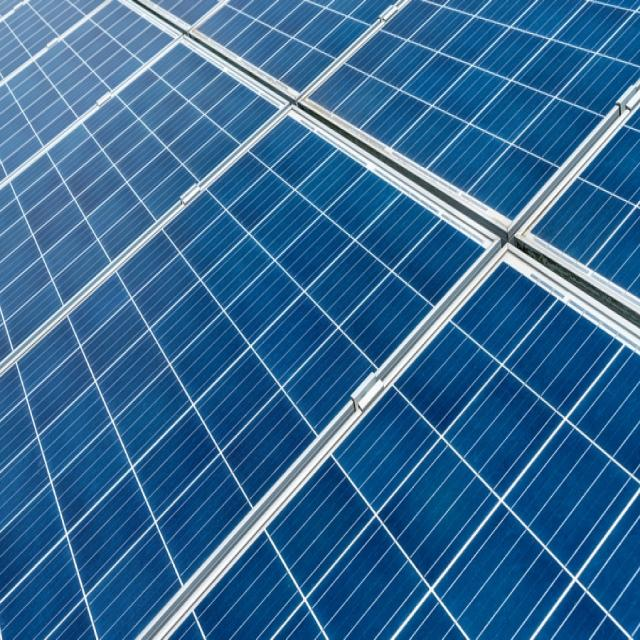clean-solar-panel: (1, 0, 640, 637)
